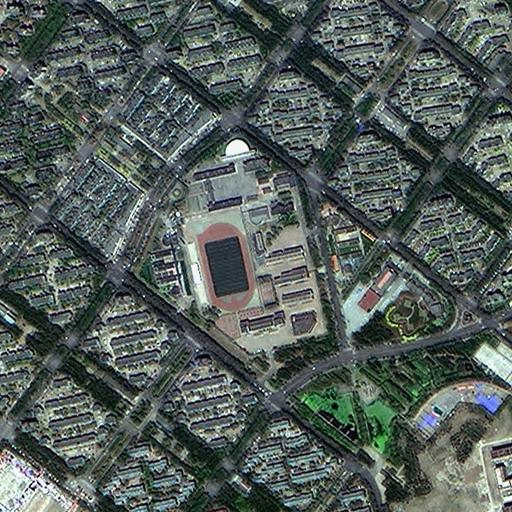school: (189, 154, 320, 349)
